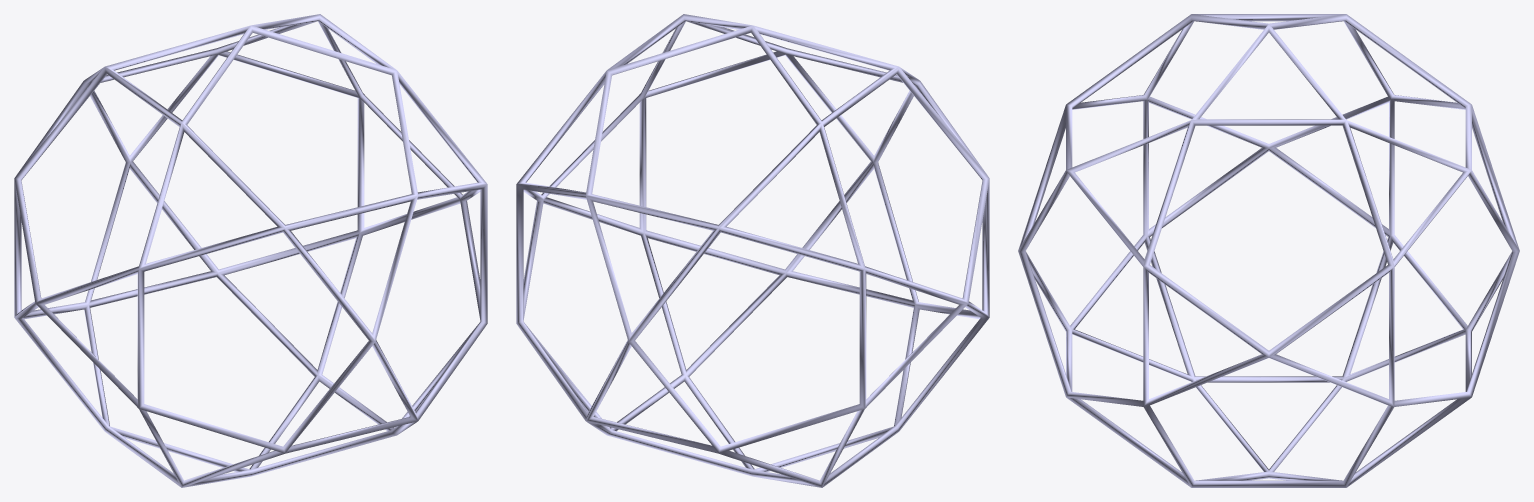
File: Icosidodecahedron1.glb
3 renders of one model, left to right at view 1: azimuth 30°, elevation 25°; view 2: azimuth 150°, elevation 25°; view 3: azimuth 270°, elevation 25°, orthographic.
Parts seen in each view (by area): view 1: Icosidodecahedron; view 2: Icosidodecahedron; view 3: Icosidodecahedron.
Part boxes in pixels (x1,y1,x2,y2): Icosidodecahedron: [14, 14, 487, 487]; Icosidodecahedron: [516, 14, 989, 487]; Icosidodecahedron: [1018, 14, 1519, 487].
Size of the model in its own units: 3.29 by 3.29 by 3.29.
